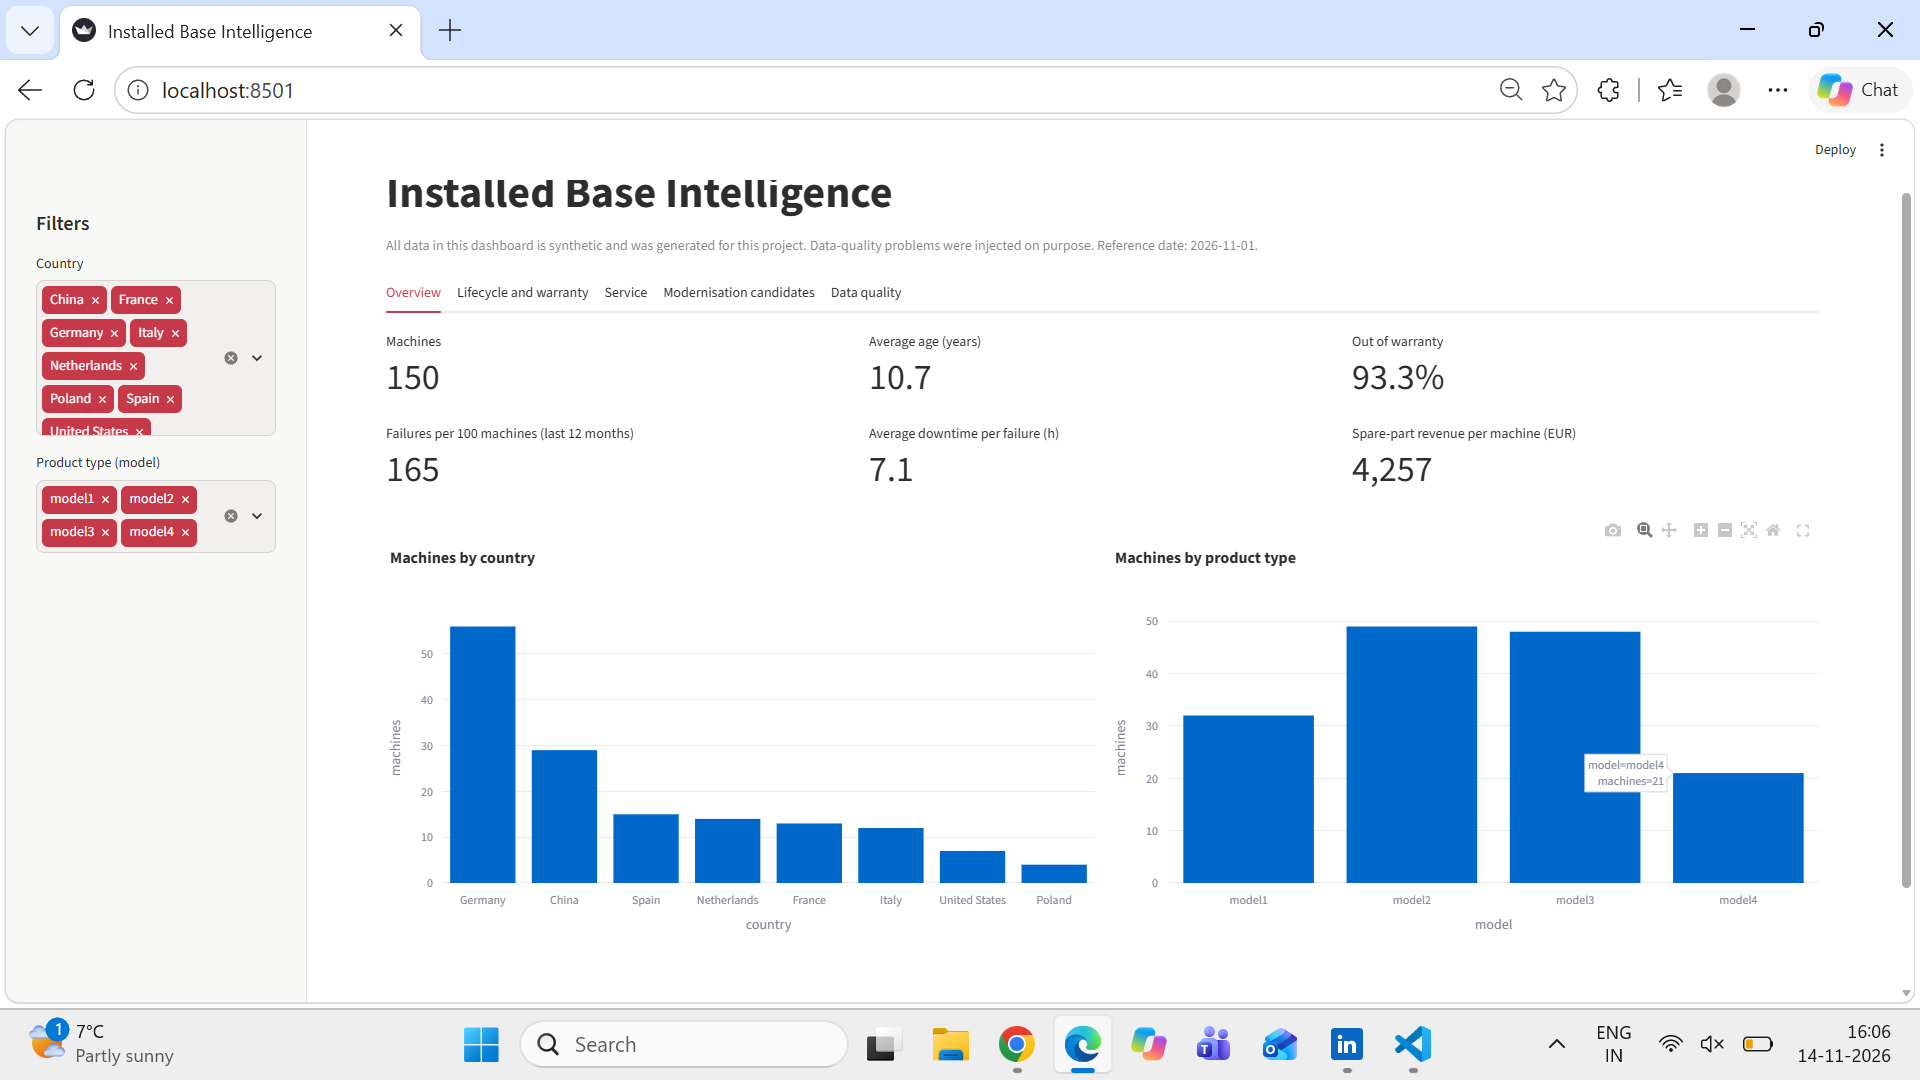

Layout of this report page (visuals, bound fields, positions):
{"tool":"powerbi","page":{"name":"Installed Base Overview","canvas":[1280,720],"ordinal":0},"visuals":[{"type":"cardVisual","fields":{"Data":["clean_machines.Machines"]},"box":[9.4,56.7,153.1,132.3],"z":0},{"type":"cardVisual","fields":{"Data":["clean_machines.Avg Age"]},"box":[141.7,68,160.6,109.6],"z":1000},{"type":"cardVisual","fields":{"Data":["clean_machines.% Out of Warranty"]},"box":[289.1,56.7,196.5,111.5],"z":2000},{"type":"cardVisual","fields":{"Data":["clean_machines.Failures per 100 Machines"]},"box":[485.7,58.6,253.2,111.5],"z":3000},{"type":"clusteredBarChart","fields":{"Category":["clean_customers.country"],"Y":["clean_machines.Machines"]},"box":[9.4,223,423.3,289.1],"z":4000},{"type":"clusteredBarChart","fields":{"Category":["clean_machines.model"],"Y":["clean_machines.Machines"]},"box":[432.8,223,308,275.9],"z":5000},{"type":"slicer","fields":{"Values":["clean_customers.country"]},"box":[740.8,22.7,211.7,260.8],"z":6000},{"type":"slicer","fields":{"Values":["clean_machines.model"]},"box":[888.2,22.7,139.8,139.8],"z":7000},{"type":"textbox","box":[9.4,9.4,308,47.2],"z":8000}]}

Visuals, with their boxes on the page's 1280x720 design canvas (x1, y1, x2, y2). These are canvas units, not pixel positions in the 1920x1080 screenshot, which may show the page scaled, cropped or inside an application window:
cardVisual - clean_machines.Machines: x1=9 y1=57 x2=162 y2=189
cardVisual - clean_machines.Avg Age: x1=142 y1=68 x2=302 y2=178
cardVisual - clean_machines.% Out of Warranty: x1=289 y1=57 x2=486 y2=168
cardVisual - clean_machines.Failures per 100 Machines: x1=486 y1=59 x2=739 y2=170
clusteredBarChart - clean_customers.country x clean_machines.Machines: x1=9 y1=223 x2=433 y2=512
clusteredBarChart - clean_machines.model x clean_machines.Machines: x1=433 y1=223 x2=741 y2=499
slicer - clean_customers.country: x1=741 y1=23 x2=952 y2=284
slicer - clean_machines.model: x1=888 y1=23 x2=1028 y2=162
textbox: x1=9 y1=9 x2=317 y2=57
